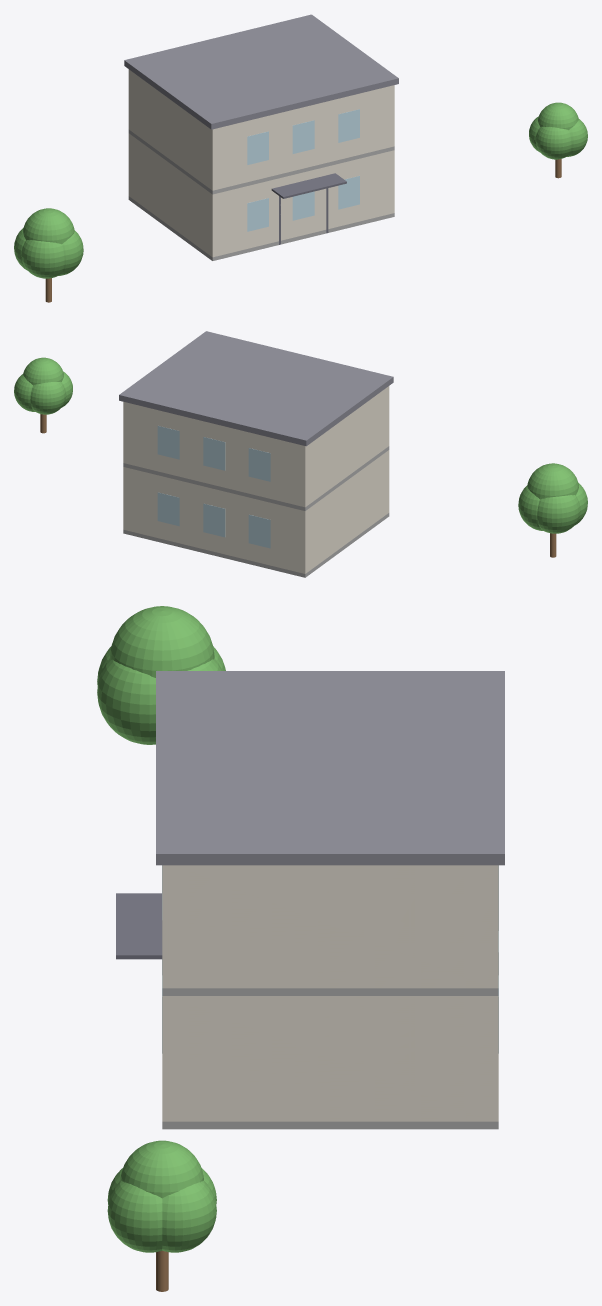
The model's file is building_basic.gltf.
3 views of the same model, one above another, from view 1: azimuth 30°, elevation 25°; view 2: azimuth 150°, elevation 25°; view 3: azimuth 270°, elevation 25° (orthographic). The views are drawn at different scales.
Parts seen in each view (by area): view 1: Building_Basic_Roof, Floor_2_Wall_Front, Floor_1_Wall_Front, Floor_1_Wall_Left, Floor_2_Wall_Left, Tree_1, Tree_2, Floor_2_Slab, Floor_1_Slab, Building_Basic_Canopy, Floor_2_Window_Front_1, Floor_1_Window_Front_0 (+4 smaller); view 2: Building_Basic_Roof, Floor_1_Wall_Back, Floor_2_Wall_Back, Floor_1_Wall_Left, Floor_2_Wall_Left, Tree_1, Tree_2, Floor_2_Slab, Floor_1_Slab, Floor_1_Window_Back_2, Floor_2_Window_Back_0, Floor_2_Window_Back_1 (+3 smaller); view 3: Building_Basic_Roof, Floor_1_Wall_Right, Floor_2_Wall_Right, Tree_2, Tree_1, Building_Basic_Canopy, Floor_1_Slab, Floor_2_Slab, Floor_1_Wall_Back, Floor_1_Wall_Front, Floor_2_Wall_Back, Floor_2_Wall_Front.
Part boxes in pixels (x1,y1,x2,y2): Building_Basic_Roof: (124,14,398,129); Floor_2_Wall_Front: (211,85,394,190); Floor_1_Wall_Front: (211,150,394,257); Floor_1_Wall_Left: (130,134,210,255); Floor_2_Wall_Left: (130,70,210,189); Tree_1: (14,208,83,278); Tree_2: (529,102,587,159); Floor_2_Slab: (128,129,394,194); Floor_1_Slab: (128,196,394,260); Building_Basic_Canopy: (271,173,346,198); Floor_2_Window_Front_1: (292,120,314,153); Floor_1_Window_Front_0: (247,198,268,231); Building_Basic_Roof: (119,331,393,446); Floor_1_Wall_Back: (123,467,306,573); Floor_2_Wall_Back: (123,401,306,507); Floor_1_Wall_Left: (307,451,387,572); Floor_2_Wall_Left: (307,387,387,505); Tree_1: (518,463,587,533); Tree_2: (14,357,72,414); Floor_2_Slab: (123,446,389,510); Floor_1_Slab: (123,513,389,577); Floor_1_Window_Back_2: (157,492,179,526); Floor_2_Window_Back_0: (248,448,270,481); Floor_2_Window_Back_1: (203,437,225,470); Building_Basic_Roof: (156,671,504,865); Floor_1_Wall_Right: (168,996,492,1121); Floor_2_Wall_Right: (168,865,492,988); Tree_2: (107,1140,216,1252); Tree_1: (97,606,225,744); Building_Basic_Canopy: (116,893,162,959); Floor_1_Slab: (162,1121,498,1129); Floor_2_Slab: (162,988,498,995); Floor_1_Wall_Back: (492,996,498,1121); Floor_1_Wall_Front: (162,996,168,1121); Floor_2_Wall_Back: (492,865,498,988); Floor_2_Wall_Front: (162,865,168,988).
Size of the model in its own units: 30.85 by 7.3 by 9.7.
